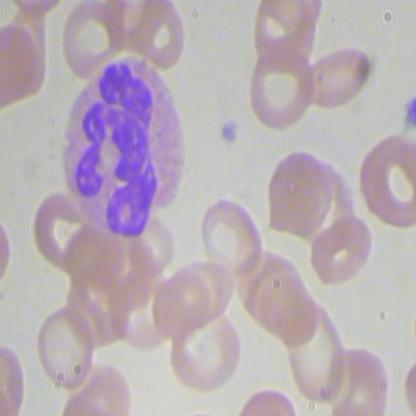Platelets: (218, 118, 241, 145)
RBC: (273, 295, 354, 406), (263, 143, 337, 244), (162, 305, 242, 398), (194, 193, 268, 279), (28, 303, 101, 389), (244, 48, 317, 133), (357, 130, 415, 232), (55, 1, 125, 83), (305, 35, 377, 113), (310, 207, 376, 284)
WBC: (47, 55, 198, 245)
